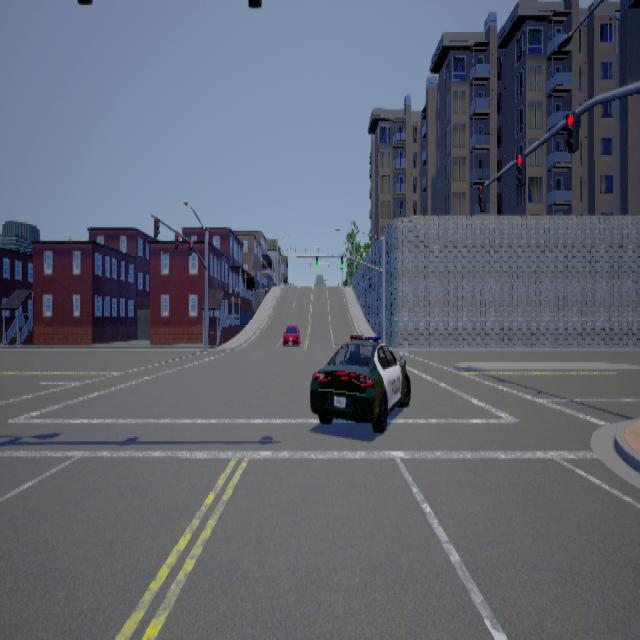green_light: (341, 255, 343, 268), (316, 255, 318, 268)
red_light: (564, 110, 578, 152), (515, 152, 525, 185), (477, 183, 485, 210), (153, 216, 159, 236), (174, 229, 179, 248), (187, 239, 192, 254)
traffic_light: (285, 254, 287, 266), (277, 256, 279, 263)
vehicle: (309, 334, 410, 431), (281, 318, 299, 347)
